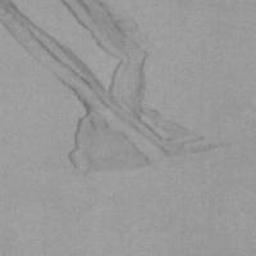Water spot: (0, 0, 227, 179)
